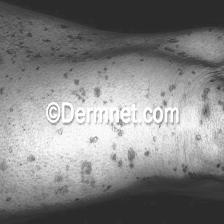Benign Marking or Mole: (62, 66, 103, 102), (76, 155, 100, 193), (126, 146, 137, 174)
